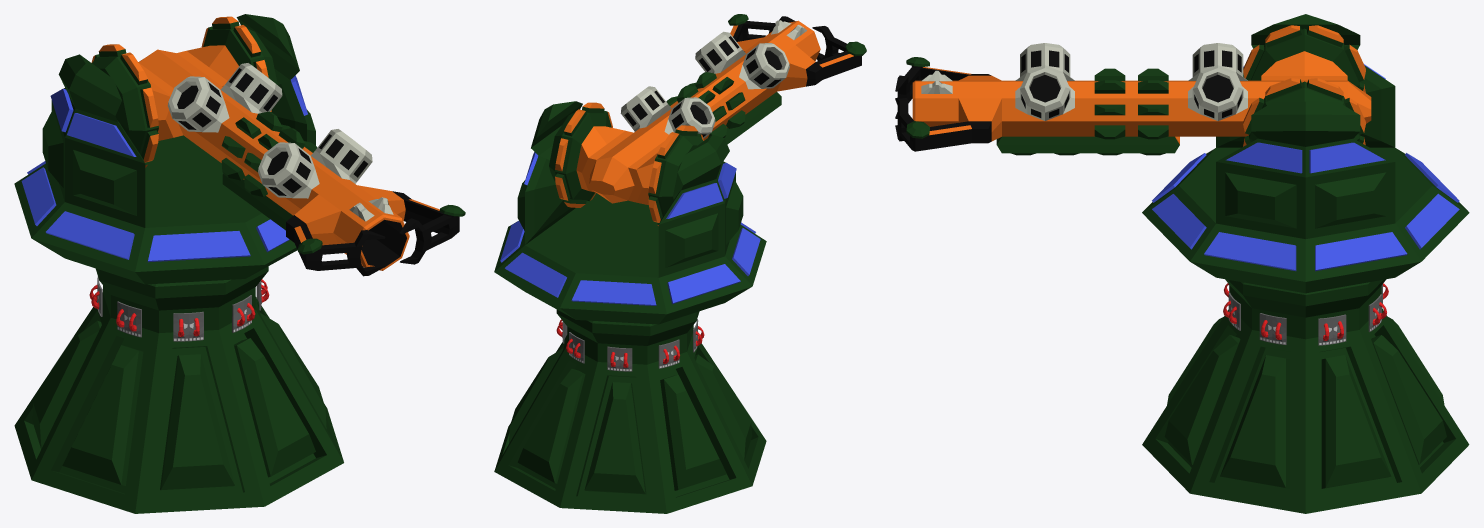
File: _ig Cannon.fbx
The picture shows the model from 3 angles, left to right: view 1: azimuth 30°, elevation 25°; view 2: azimuth 150°, elevation 25°; view 3: azimuth 270°, elevation 25°; orthographic projection. The views are drawn at different scales.
Visible parts, largest first — view 1: base gran canyon, Cube.007, grand canon, Cube.005; view 2: base gran canyon, Cube.007, grand canon, Cube.005; view 3: base gran canyon, Cube.007, grand canon, Cube.005.
Part boxes in pixels (x1=…): base gran canyon: x1=14, y1=266, x2=343, y2=513; Cube.007: x1=14, y1=14, x2=315, y2=284; grand canon: x1=91, y1=16, x2=465, y2=276; Cube.005: x1=89, y1=276, x2=269, y2=341; base gran canyon: x1=494, y1=309, x2=766, y2=513; Cube.007: x1=494, y1=101, x2=766, y2=324; grand canon: x1=549, y1=14, x2=866, y2=225; Cube.005: x1=556, y1=319, x2=704, y2=371; base gran canyon: x1=1142, y1=279, x2=1469, y2=513; Cube.007: x1=1142, y1=14, x2=1469, y2=293; grand canon: x1=895, y1=25, x2=1371, y2=155; Cube.005: x1=1223, y1=283, x2=1388, y2=345.
Bounding box in the file's own units: 1098 × 1448 × 1923.
